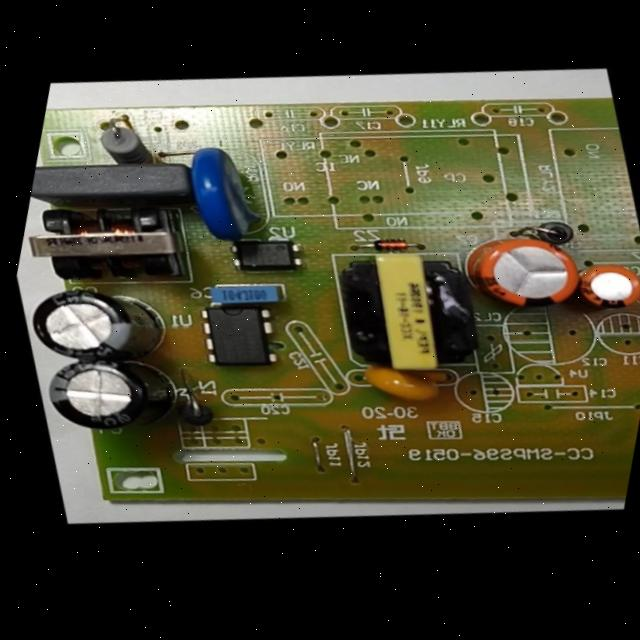Cap1: (437, 201, 607, 344)
Cap2: (553, 239, 640, 335)
Cap3: (14, 255, 192, 397)
Cap4: (21, 322, 212, 471)
MOSFET: (169, 277, 308, 396)
Mov: (155, 119, 296, 268)
Resistor: (75, 106, 159, 179)
Transformer: (299, 213, 521, 411), (9, 164, 209, 323)
